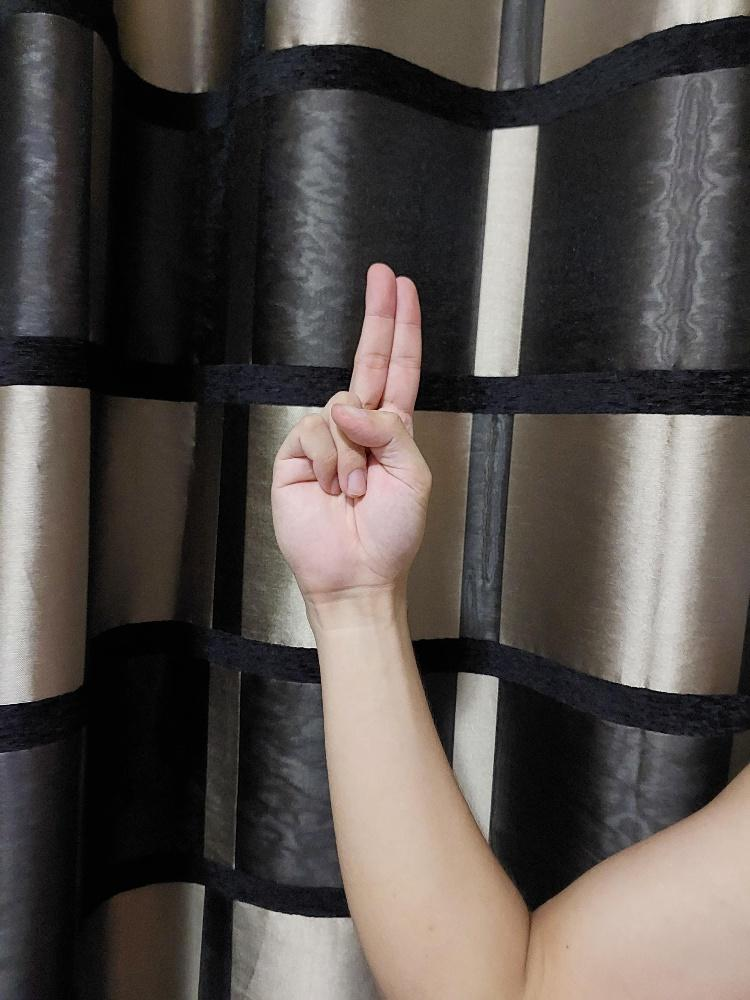u: (270, 260, 433, 593)
